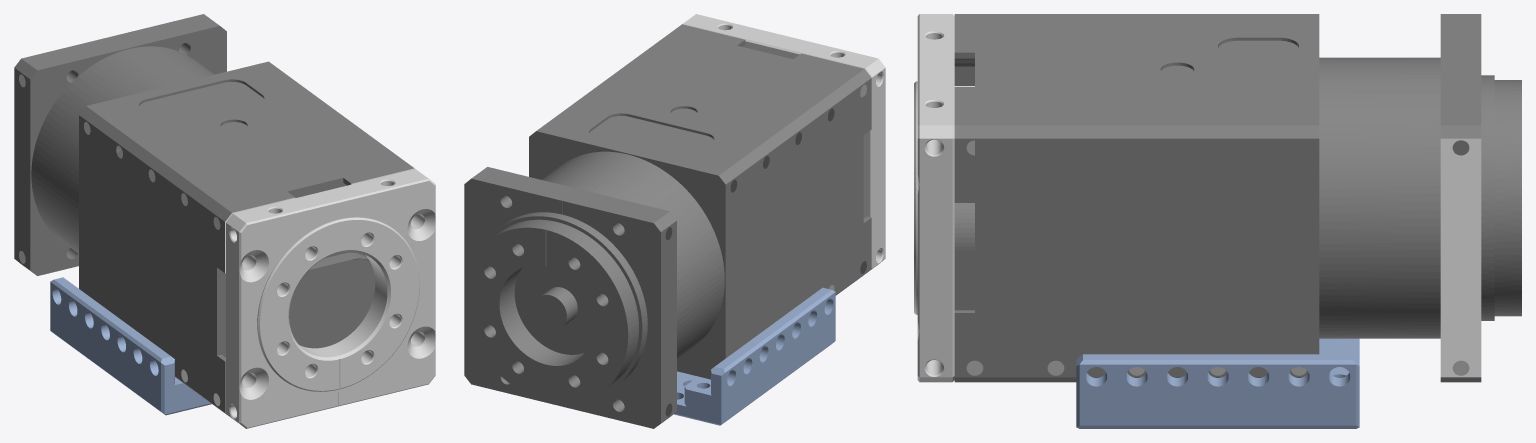
Rendered from robotis_arm_link4.dae.
3 renders of one model, left to right at view 1: azimuth 30°, elevation 25°; view 2: azimuth 150°, elevation 25°; view 3: azimuth 270°, elevation 25°, orthographic. The views are drawn at different scales.
Parts seen in each view (by area): view 1: Untitled_001, Untitled, Untitled_004, Untitled_009, Untitled_005, Untitled_007; view 2: Untitled_001, Untitled_004, Untitled_009, Untitled, Untitled_007; view 3: Untitled_001, Untitled_002, Untitled_009, Untitled, Untitled_008, Untitled_004.
Boxes of the visible parts, x1,y1,x2,y2 form: Untitled_001: (14,14,413,417); Untitled: (226,169,435,428); Untitled_004: (79,115,224,412); Untitled_009: (50,277,211,415); Untitled_005: (225,259,375,413); Untitled_007: (14,68,30,269); Untitled_001: (464,24,871,428); Untitled_004: (725,78,871,357); Untitled_009: (674,287,835,425); Untitled: (682,14,885,272); Untitled_007: (661,220,676,422); Untitled_001: (954,14,1521,382); Untitled_002: (954,138,1319,377); Untitled_009: (1076,338,1359,428); Untitled: (914,14,954,382); Untitled_008: (1440,138,1481,377); Untitled_004: (975,140,1307,155).
Size of the model in its own units: 0.048 by 0.09 by 0.048.
